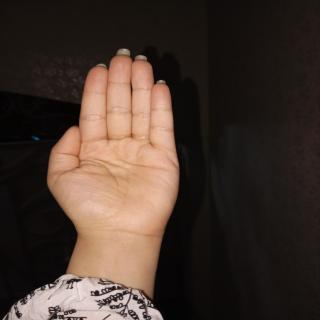SEEN: (41, 45, 195, 241)
